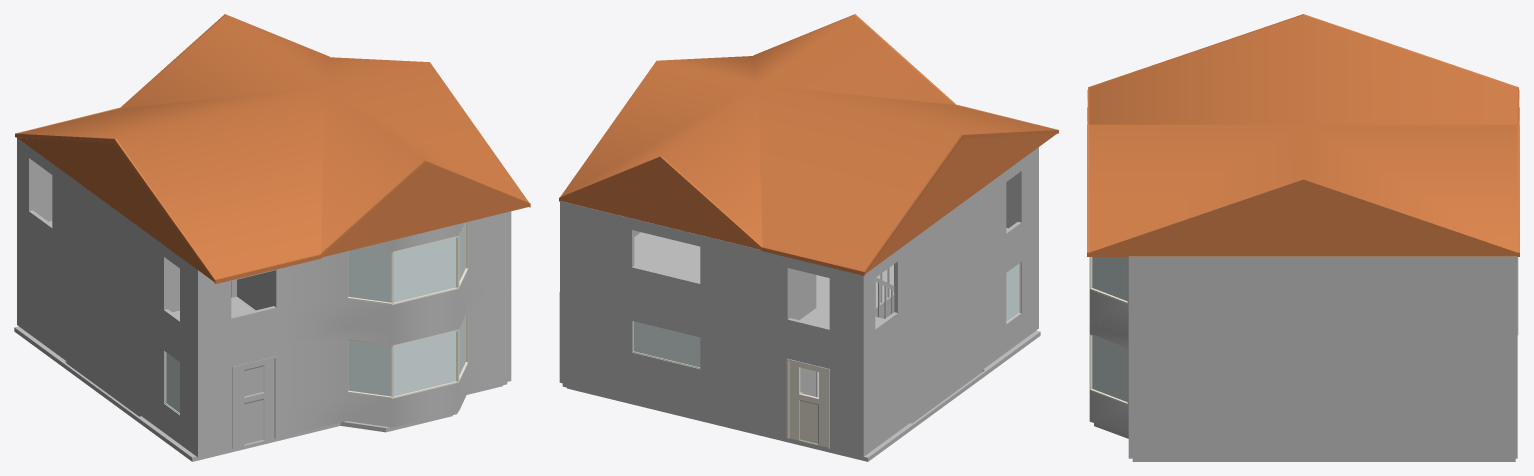
Rendered from HouseV3.FBX.
The picture shows the model from 3 angles, left to right: view 1: azimuth 30°, elevation 25°; view 2: azimuth 150°, elevation 25°; view 3: azimuth 270°, elevation 25°; orthographic projection. The views are drawn at different scales.
Parts seen in each view (by area): view 1: Roof, 1stFloorWalls001, GroundFloorWalls, LivingRoomWindow, BedRoomWindow001, FrontDoor, 1stFloorWalls003, LivingRoomWindowFrame, BedRoomWindowFrame001, 1stFloorWalls002, HallwayWindow, BackDoorFrame001; view 2: Roof, 1stFloorWalls001, GroundFloorWalls, 1stFloorWalls, BackDoor, 1stFloorWalls003, KitchenWindow, 1stFloorWalls002, HallwayWindow, BackDoorFrame; view 3: Roof, GroundFloorWalls, 1stFloorWalls001, LivingRoomWindow, 1stFloorWalls002, BedRoomWindow001, LivingRoomWindowFrame.
Boxes of the visible parts, x1=… form: Roof: x1=15, y1=14, x2=530, y2=283; 1stFloorWalls001: x1=17, y1=138, x2=511, y2=363; GroundFloorWalls: x1=17, y1=231, x2=511, y2=457; LivingRoomWindow: x1=348, y1=316, x2=465, y2=396; BedRoomWindow001: x1=348, y1=222, x2=465, y2=302; FrontDoor: x1=235, y1=358, x2=274, y2=447; 1stFloorWalls003: x1=14, y1=326, x2=502, y2=461; LivingRoomWindowFrame: x1=347, y1=310, x2=468, y2=398; BedRoomWindowFrame001: x1=347, y1=222, x2=468, y2=304; 1stFloorWalls002: x1=61, y1=357, x2=507, y2=459; HallwayWindow: x1=166, y1=352, x2=179, y2=412; BackDoorFrame001: x1=232, y1=356, x2=277, y2=448; Roof: x1=559, y1=14, x2=1058, y2=275; 1stFloorWalls001: x1=560, y1=147, x2=1038, y2=365; GroundFloorWalls: x1=559, y1=238, x2=1038, y2=456; 1stFloorWalls: x1=634, y1=228, x2=1007, y2=327; BackDoor: x1=789, y1=361, x2=827, y2=447; 1stFloorWalls003: x1=567, y1=330, x2=1040, y2=461; KitchenWindow: x1=633, y1=321, x2=700, y2=367; 1stFloorWalls002: x1=562, y1=334, x2=1030, y2=459; HallwayWindow: x1=1006, y1=263, x2=1019, y2=321; BackDoorFrame: x1=786, y1=358, x2=829, y2=448; Roof: x1=1087, y1=14, x2=1519, y2=256; GroundFloorWalls: x1=1089, y1=321, x2=1517, y2=458; 1stFloorWalls001: x1=1089, y1=256, x2=1517, y2=357; LivingRoomWindow: x1=1092, y1=335, x2=1127, y2=401; 1stFloorWalls002: x1=1094, y1=423, x2=1515, y2=461; BedRoomWindow001: x1=1092, y1=257, x2=1127, y2=301; LivingRoomWindowFrame: x1=1089, y1=333, x2=1128, y2=404.
Bounding box in the file's own units: 849 × 677 × 933.
